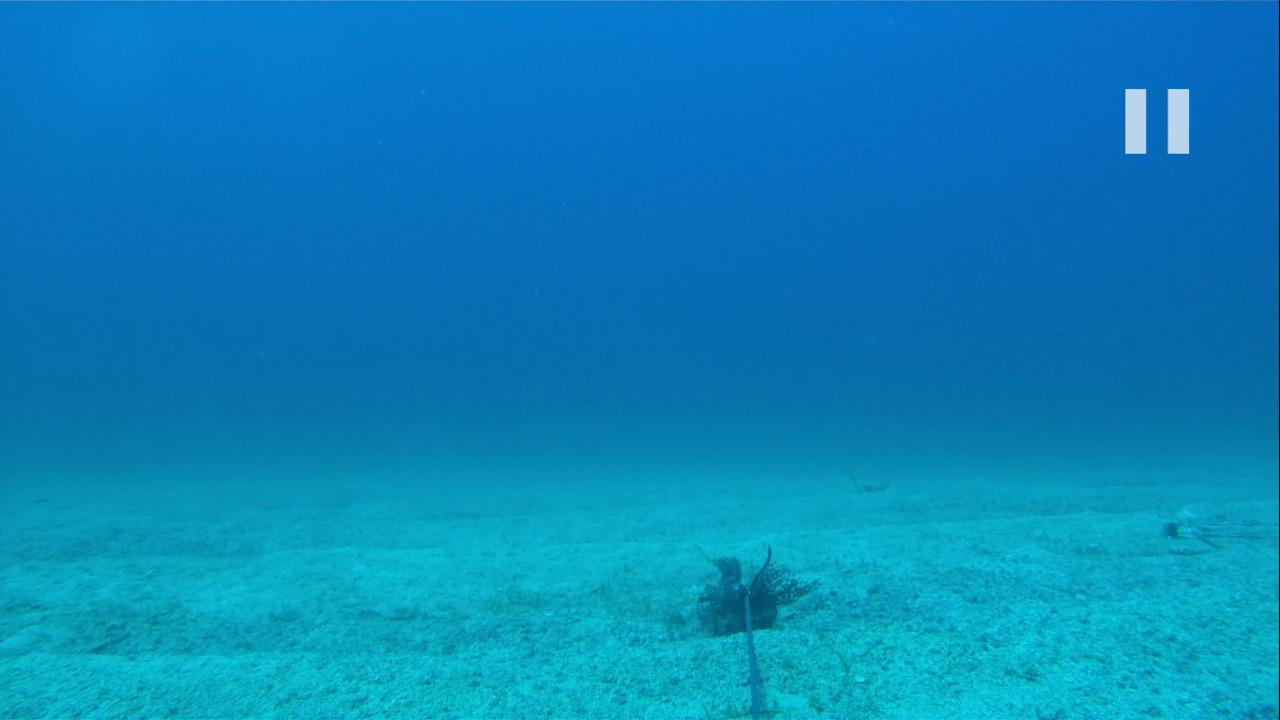dactylopterus: (1157, 506, 1279, 558)
